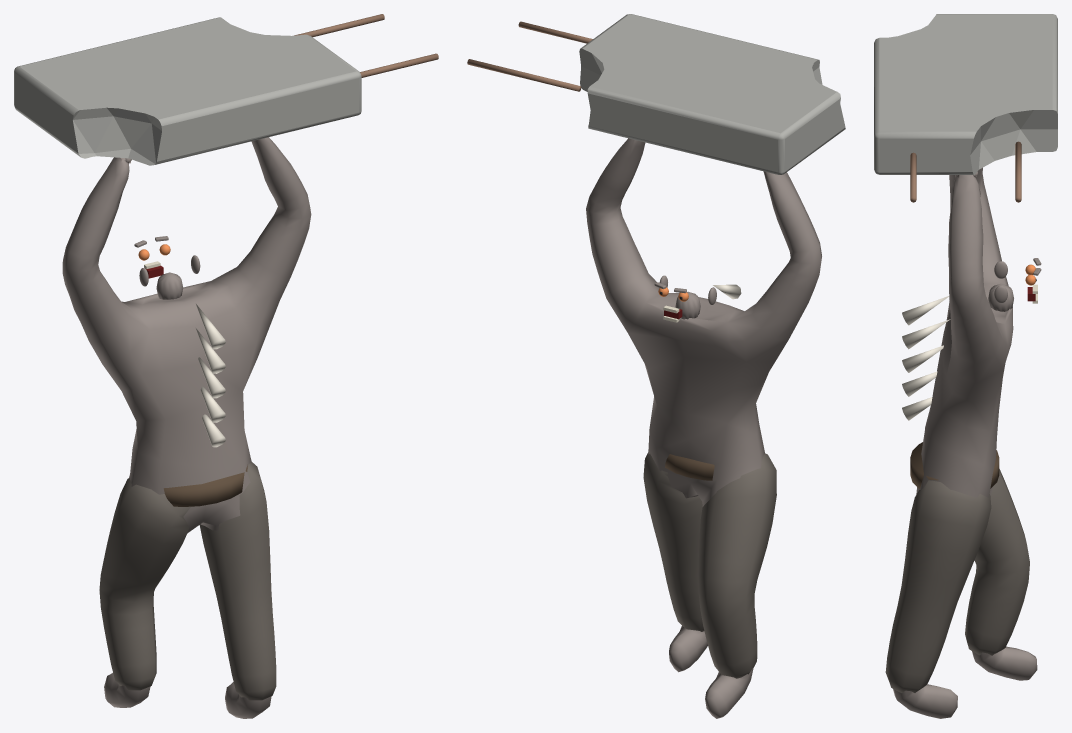
The model's file is zombie_brute.glb.
3 views of the same model, side by side, from view 1: azimuth 30°, elevation 25°; view 2: azimuth 150°, elevation 25°; view 3: azimuth 270°, elevation 25° (orthographic). The views are drawn at different scales.
Parts seen in each view (by area): view 1: body, slab, pants, belt, head; view 2: body, slab, pants, belt, rebar.001, head; view 3: slab, body, pants, head, belt, spike.003, spike.004, rebar.001, spike.002, spike.001, spike, rebar.
Part boxes in pixels (x1,y1,x2,y2): body: [62, 137, 311, 718]; slab: [14, 17, 361, 165]; pants: [99, 462, 276, 700]; belt: [163, 464, 247, 506]; head: [139, 255, 200, 299]; body: [586, 138, 821, 718]; slab: [579, 14, 845, 174]; pants: [643, 452, 776, 678]; belt: [665, 454, 714, 480]; rebar.001: [467, 59, 581, 91]; head: [659, 275, 716, 319]; slab: [874, 14, 1057, 174]; body: [893, 167, 1037, 718]; pants: [885, 469, 1029, 692]; head: [988, 261, 1013, 311]; belt: [910, 442, 999, 488]; spike.003: [902, 319, 950, 349]; spike.004: [902, 296, 949, 325]; rebar.001: [1015, 141, 1021, 202]; spike.002: [902, 345, 943, 372]; spike.001: [902, 371, 937, 396]; spike: [902, 397, 932, 420]; rebar: [910, 152, 916, 202].
Bounding box in the file's own units: 2.4 × 4.23 × 1.12.
